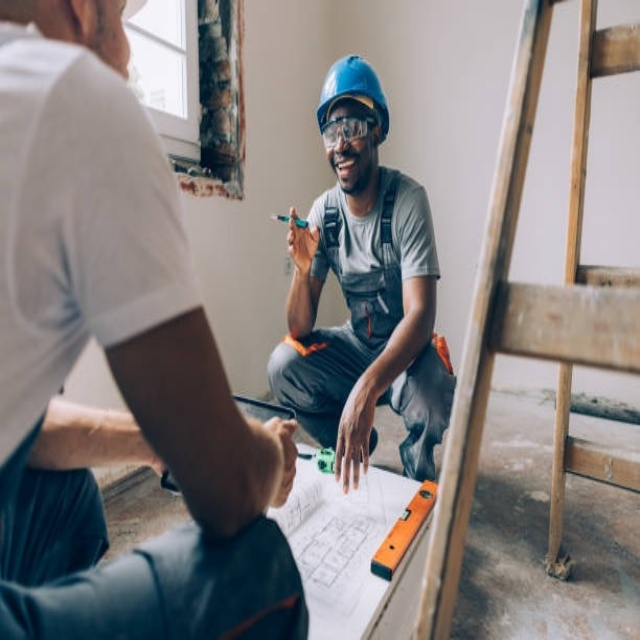Gafas: (322, 114, 376, 150)
Sin_guantes: (220, 407, 302, 524), (332, 378, 377, 490), (285, 207, 321, 270)
Sin_mascara: (329, 151, 360, 185)
